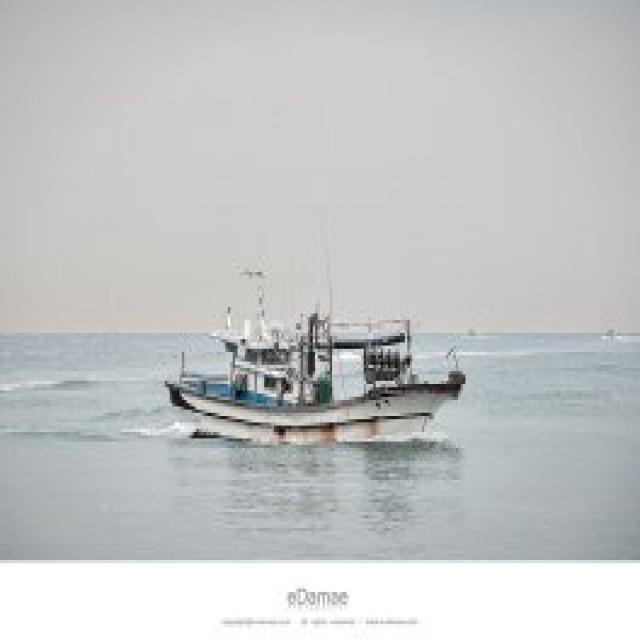Ship: (159, 302, 472, 472)
